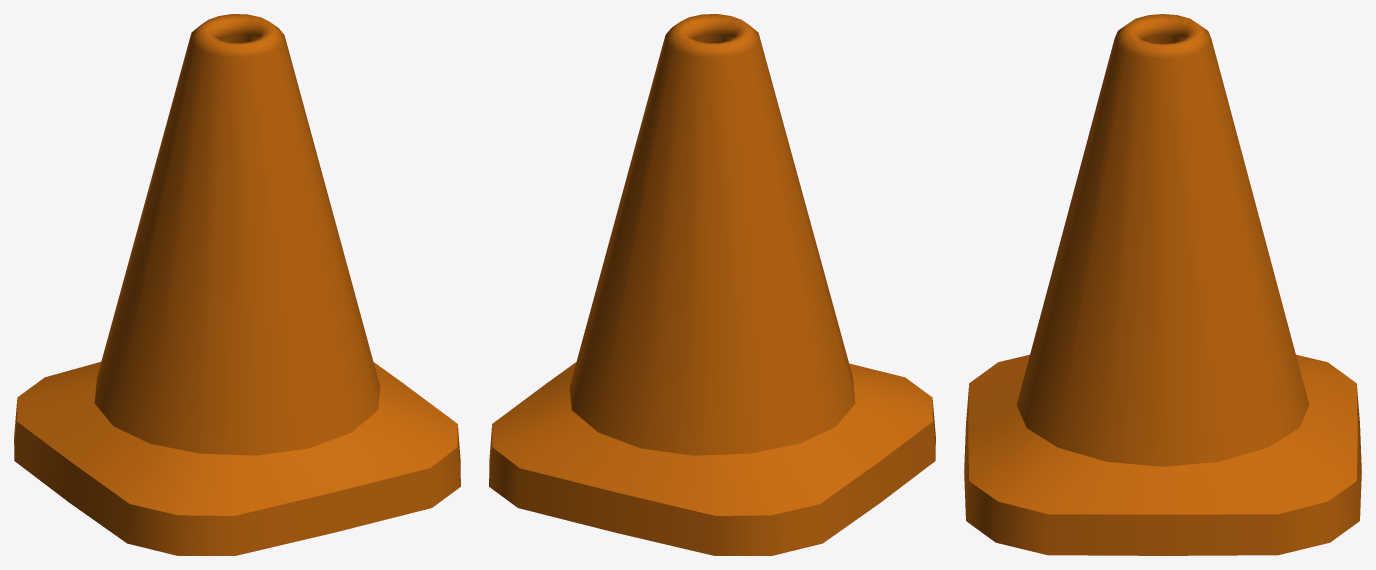
3 renders of one model, left to right at view 1: azimuth 30°, elevation 25°; view 2: azimuth 150°, elevation 25°; view 3: azimuth 270°, elevation 25°, orthographic. The views are drawn at different scales.
Visible parts, largest first — view 1: trafficCone; view 2: trafficCone; view 3: trafficCone.
Part boxes in pixels (x1=…): trafficCone: x1=14, y1=14, x2=460, y2=555; trafficCone: x1=489, y1=14, x2=935, y2=555; trafficCone: x1=964, y1=14, x2=1361, y2=555.
Bounding box in the file's own units: 526 × 645 × 526.
